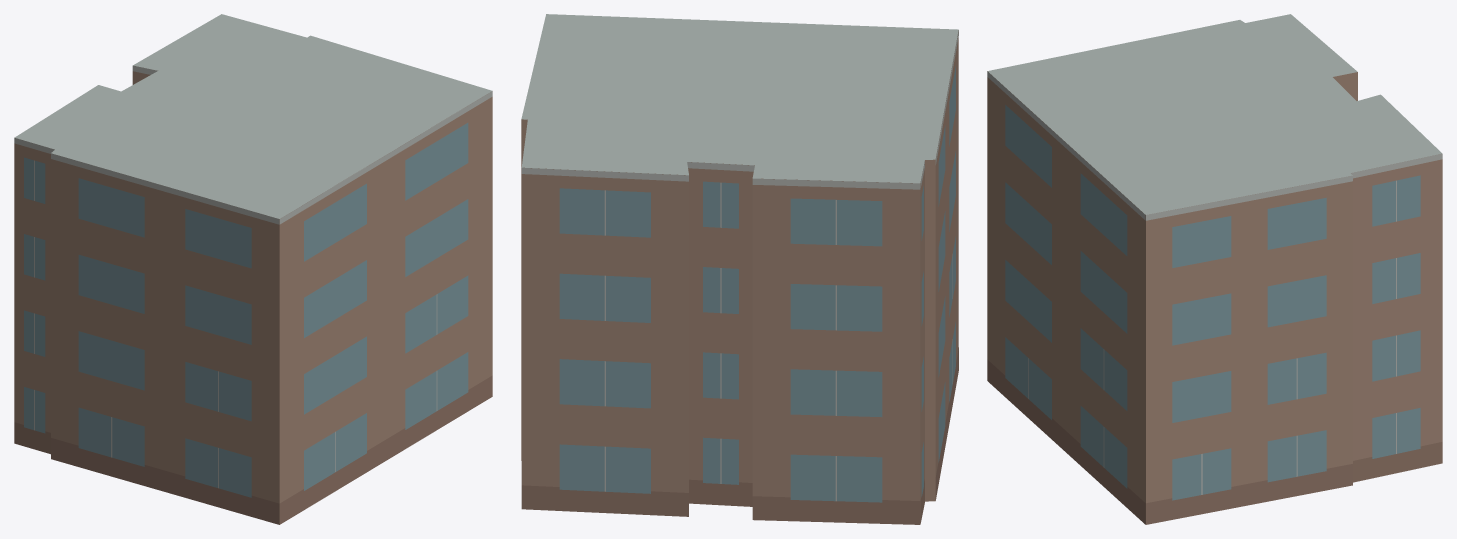
The model's file is survey-upis-32741455.glb.
3 renders of one model, left to right at view 1: azimuth 30°, elevation 25°; view 2: azimuth 150°, elevation 25°; view 3: azimuth 270°, elevation 25°, orthographic. The views are drawn at different scales.
Parts seen in each view (by area): view 1: survey-upis-32741455.tmp; view 2: survey-upis-32741455.tmp; view 3: survey-upis-32741455.tmp.
Boxes of the visible parts, <box> form: survey-upis-32741455.tmp: <box>14,14,492,524</box>; survey-upis-32741455.tmp: <box>521,14,958,524</box>; survey-upis-32741455.tmp: <box>987,14,1442,524</box>.
Size of the model in its own units: 18.24 by 13.1 by 17.45.
